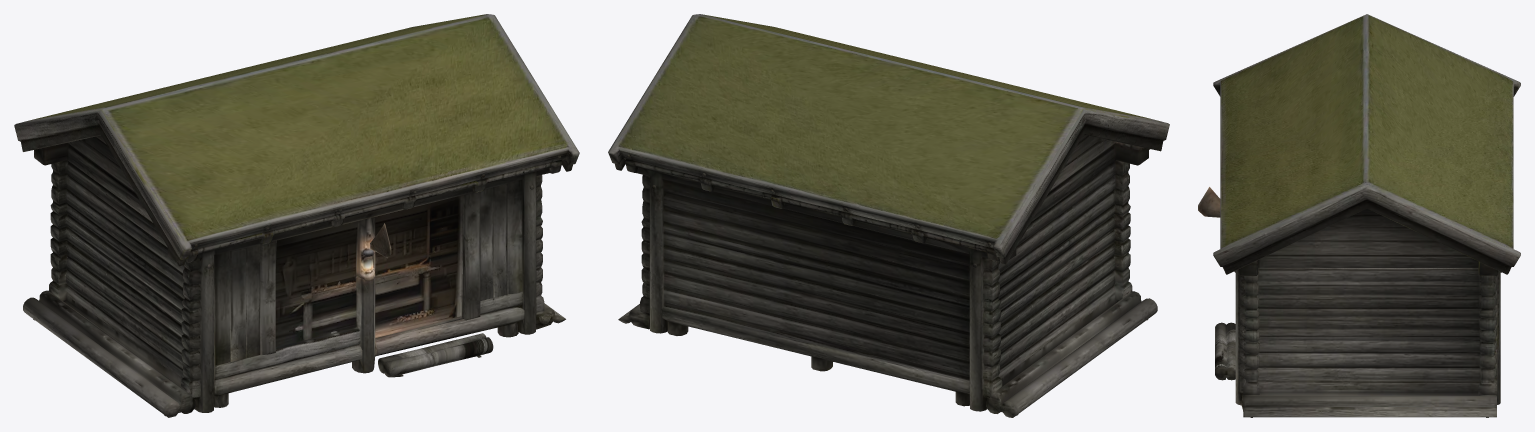
File: kabin-bengkel.glb
3 views of the same model, side by side, from view 1: azimuth 30°, elevation 25°; view 2: azimuth 150°, elevation 25°; view 3: azimuth 270°, elevation 25° (orthographic). The views are drawn at different scales.
Visible parts, largest first — view 1: part_00000001; view 2: part_00000001; view 3: part_00000001.
Part boxes in pixels (box(x1,y1,x2,y2)): part_00000001: box(14, 14, 579, 417); part_00000001: box(608, 14, 1169, 417); part_00000001: box(1198, 14, 1520, 417).
Size of the model in its own units: 0.8968 by 0.5524 by 0.6936.
Materials: 1 (1 with a texture image).
